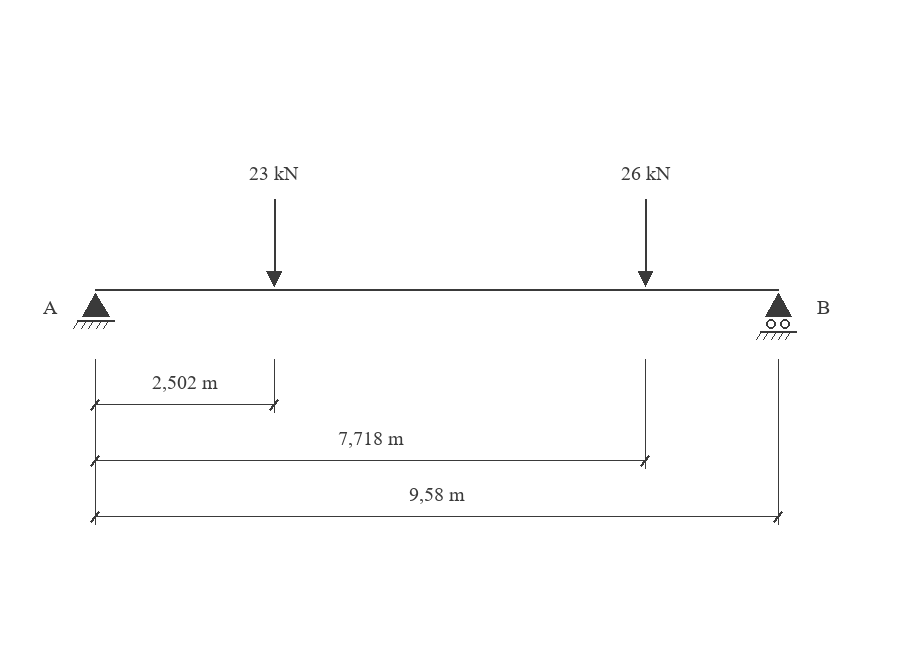pin_support: (73, 293, 115, 329)
point_load: (266, 199, 282, 287), (638, 199, 653, 287)
roller_support: (756, 293, 797, 340)
